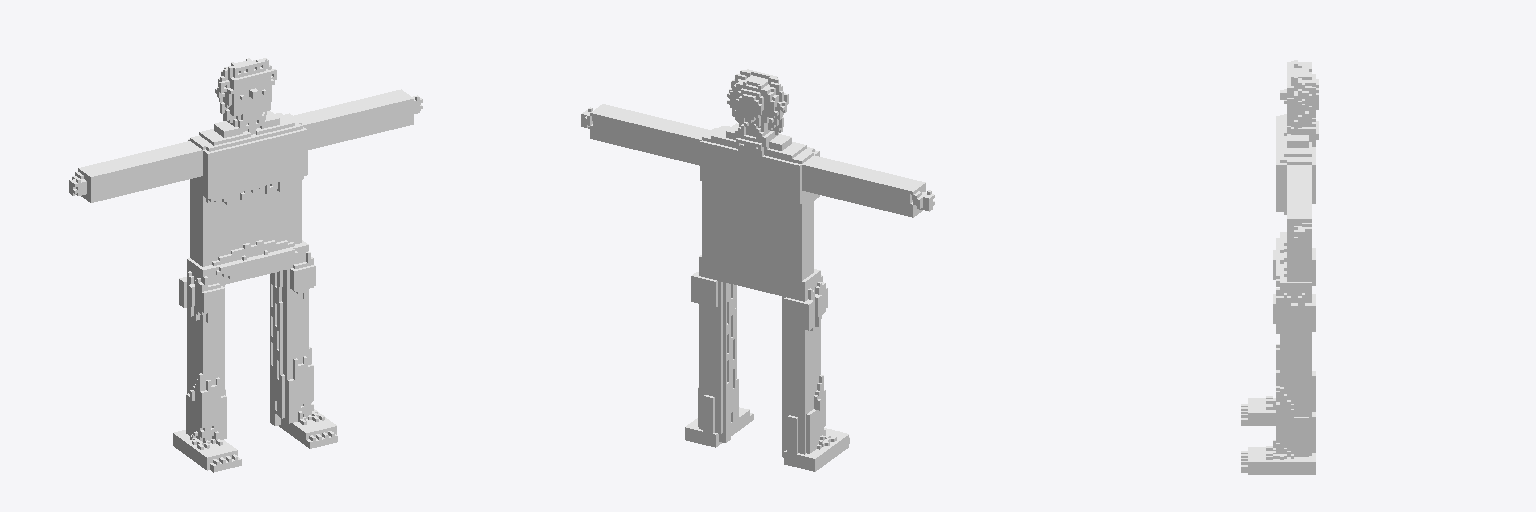
File: CONCEPT_APRIX03_CHARACTER1.obj
The picture shows the model from 3 angles: view 1: azimuth 30°, elevation 25°; view 2: azimuth 150°, elevation 25°; view 3: azimuth 270°, elevation 25°; orthographic projection.
Bounding box in the file's own units: 112 × 115 × 22.